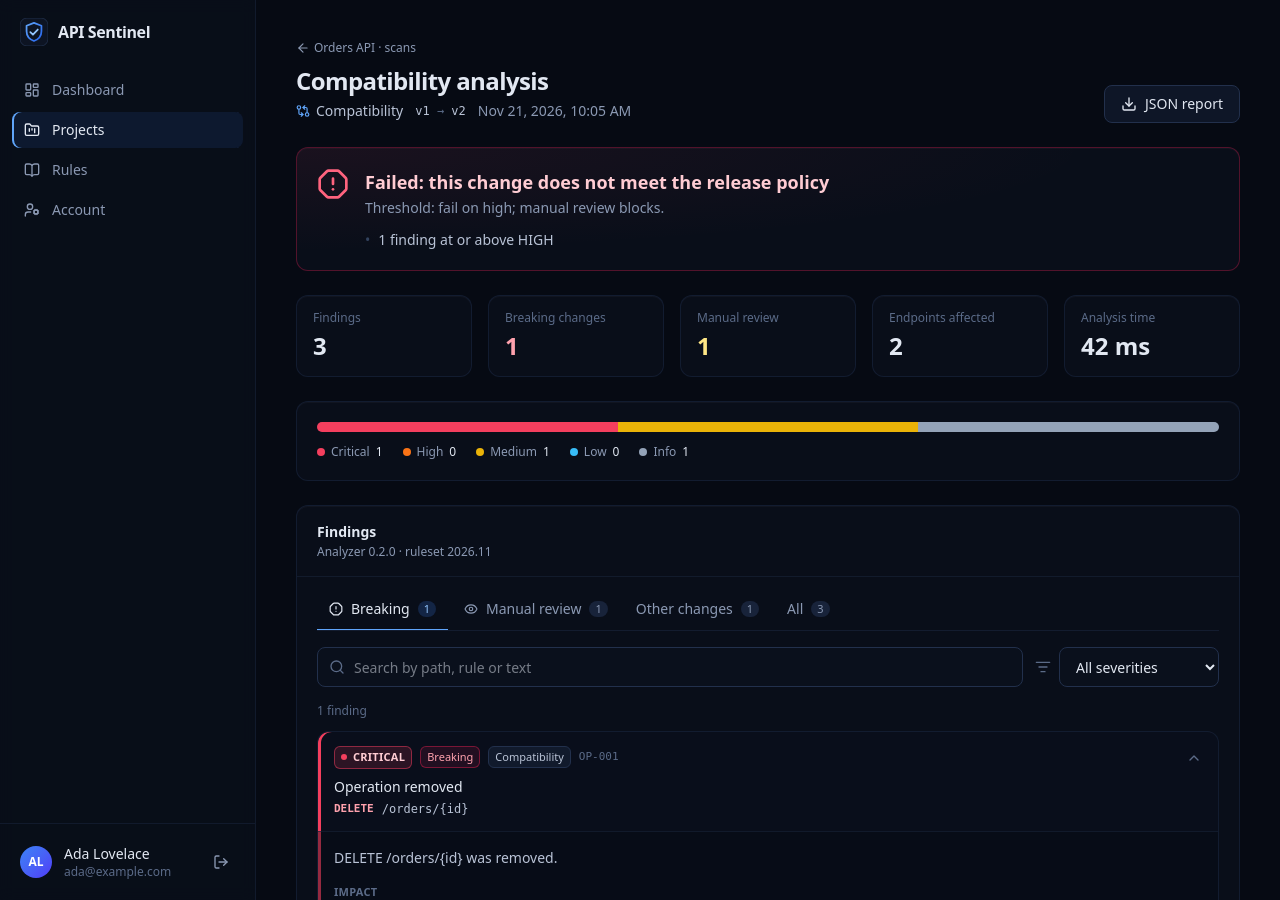
Test: ScanDetailPage › filters findings by severity
Click the tab "All 3".
click(808, 610)  # box [775,589,842,631]
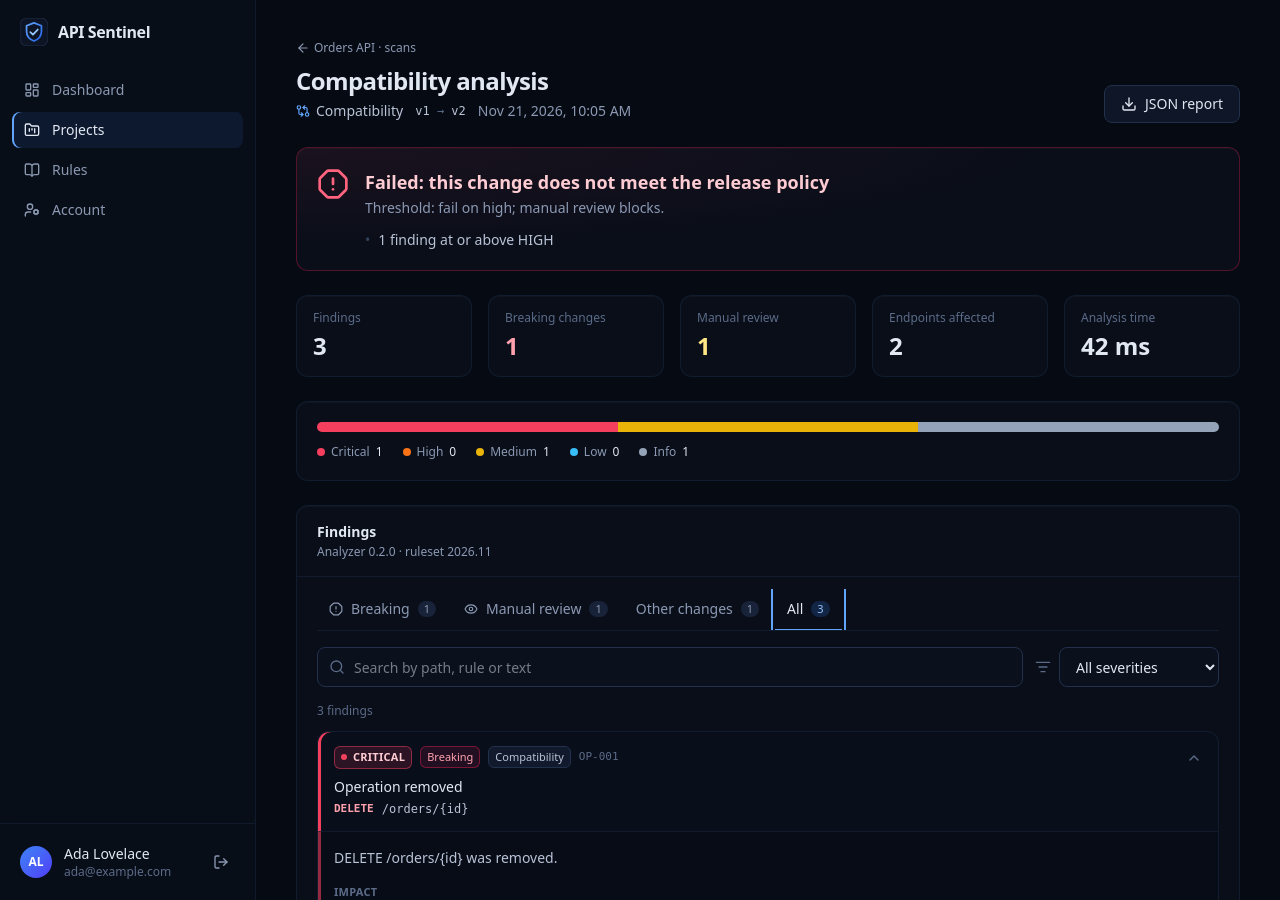
Select "Info" in the dropdown named "Filter by severity" at (1139, 667), box [1059,647,1219,687]
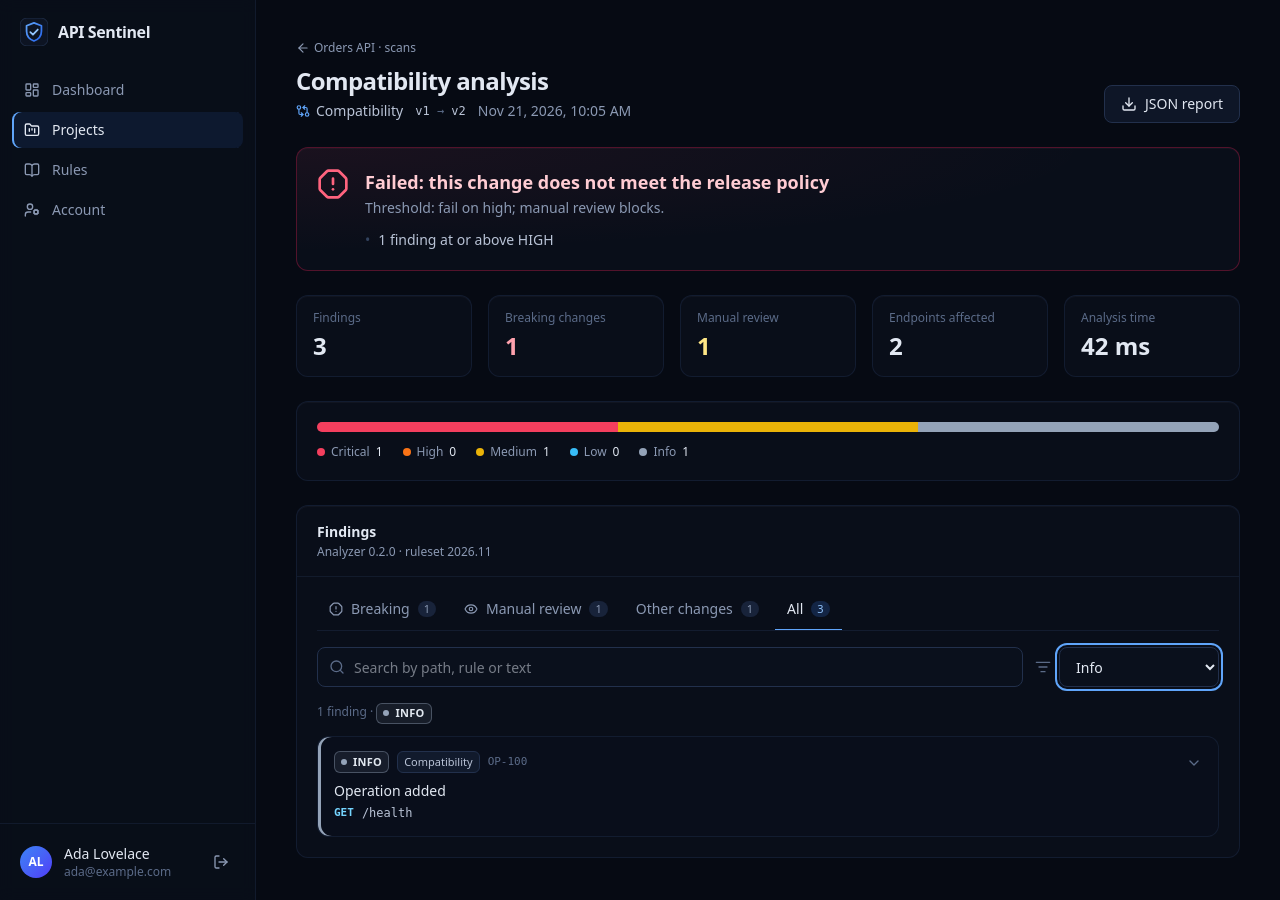
Result: the heading "Operation added" is shown at [334,781,446,800]
Result: the button "Operation removed" is gone
